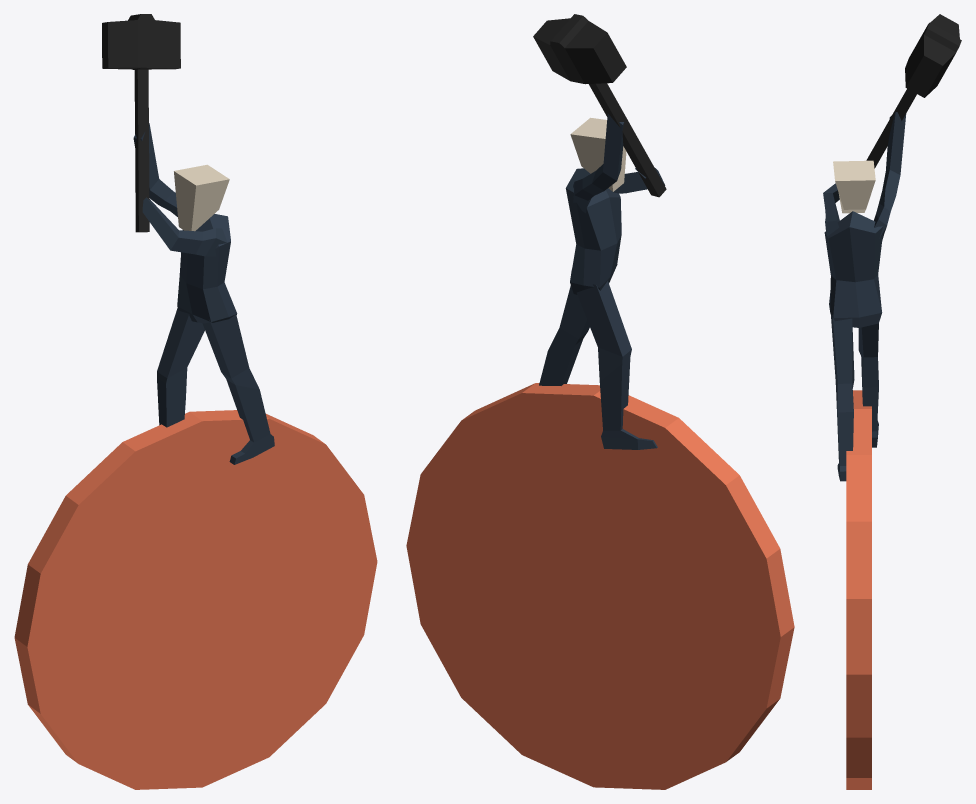
File: mesh_OswiecimRuinsWorker.fbx
The picture shows the model from 3 angles, left to right: view 1: azimuth 30°, elevation 25°; view 2: azimuth 150°, elevation 25°; view 3: azimuth 270°, elevation 25°; orthographic projection. The views are drawn at different scales.
Parts seen in each view (by area): view 1: mesh_OswiecimWorker; view 2: mesh_OswiecimWorker; view 3: mesh_OswiecimWorker.
Part boxes in pixels (box(x1,y1,x2,y2)): mesh_OswiecimWorker: box(14, 14, 377, 789); mesh_OswiecimWorker: box(406, 14, 794, 789); mesh_OswiecimWorker: box(823, 14, 961, 789).
Bounding box in the file's own units: 127 × 258 × 43.92.
